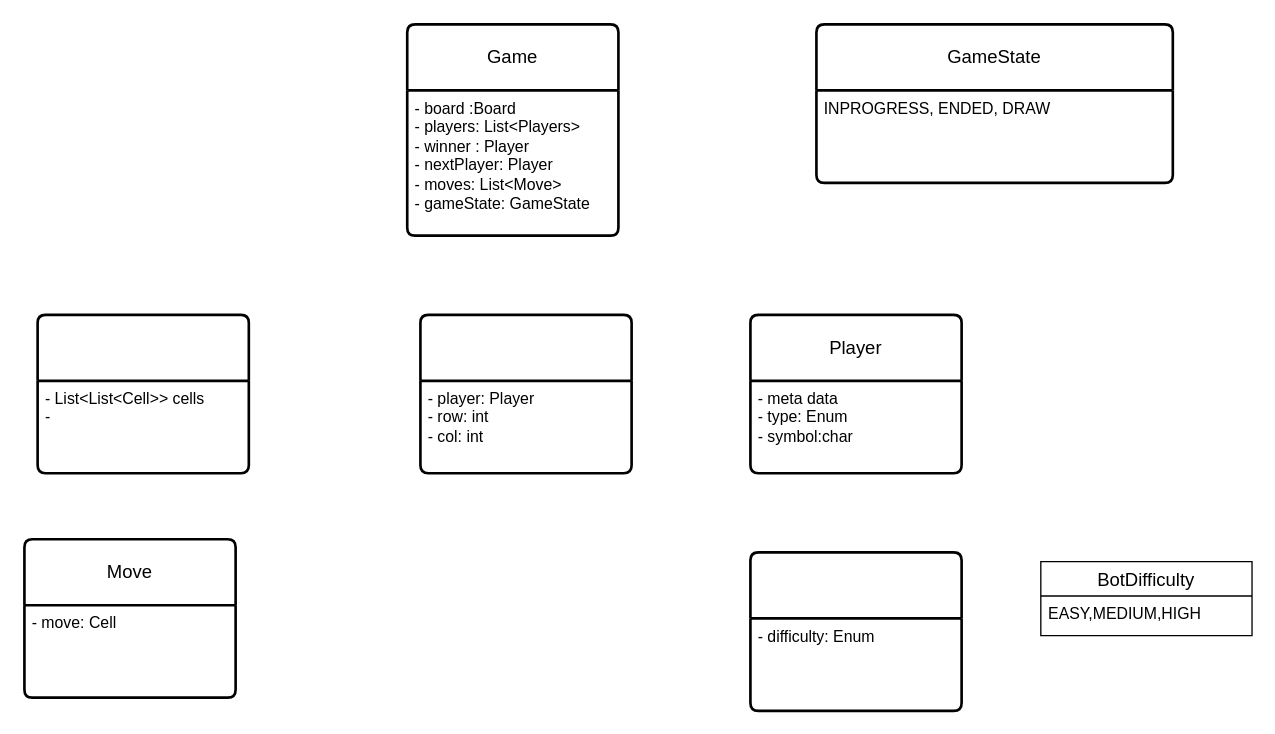
Image size: 1275x734. Some labels were removed from this diagram. The box of each missing label's shape, as (x1, y1, x2, y2) in pixels:
Board: (36, 313, 249, 474)
Bot: (748, 550, 962, 711)
Cell: (418, 313, 632, 474)
